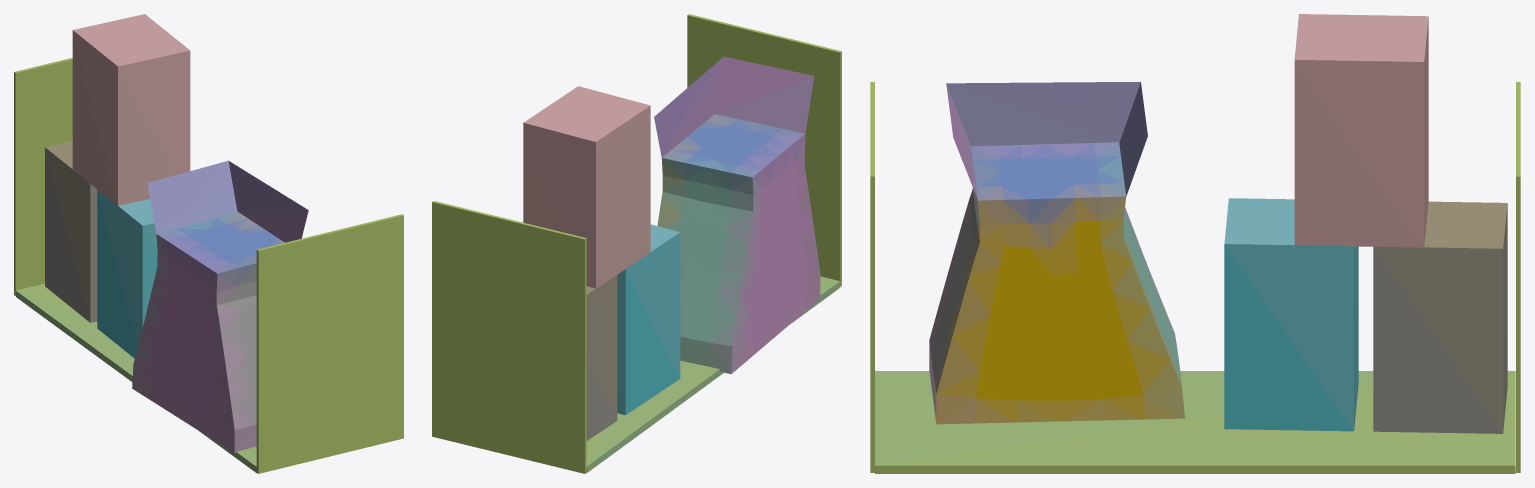
3 views of the same model, side by side, from view 1: azimuth 30°, elevation 25°; view 2: azimuth 150°, elevation 25°; view 3: azimuth 270°, elevation 25° (orthographic). The views are drawn at different scales.
Parts seen in each view (by area): view 1: world; view 2: world; view 3: world.
Part boxes in pixels (left/top/right/bottom): world: left=14, top=14, right=403, bottom=473; world: left=432, top=14, right=841, bottom=473; world: left=870, top=14, right=1520, bottom=473.
Bounding box in the file's own units: 0.3686 × 0.6434 × 1.
